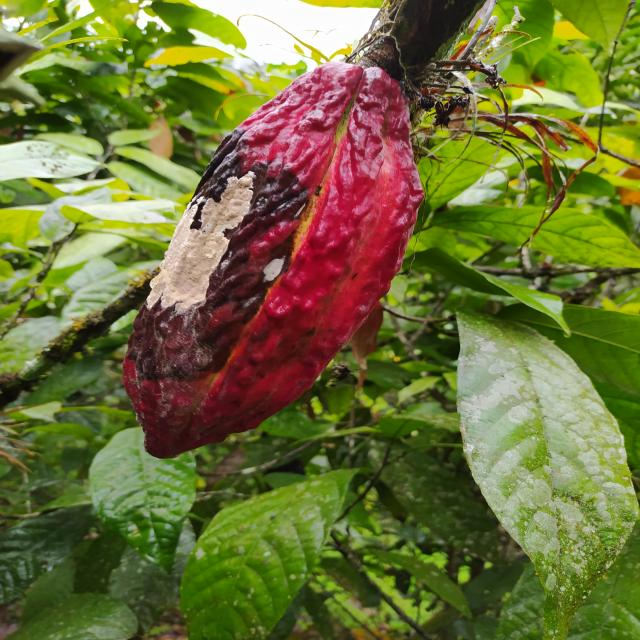Monilia: (121, 62, 422, 458)
